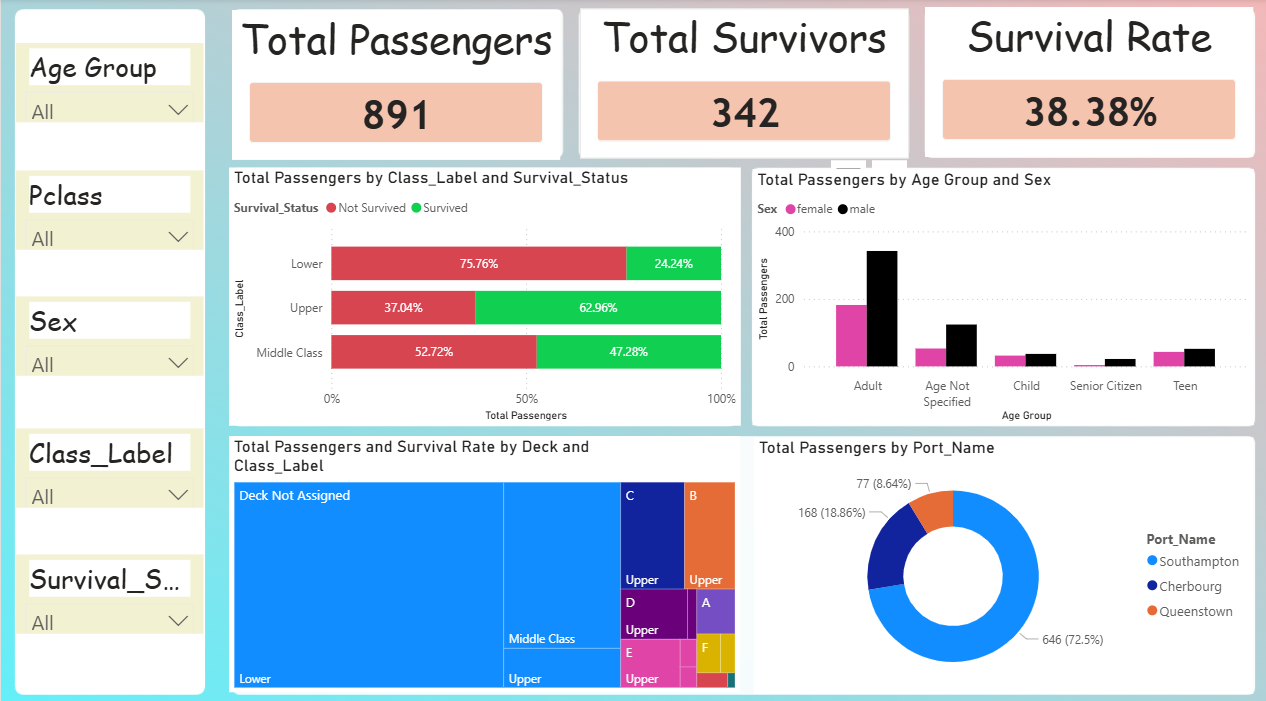

What the dashboard file says about the page in this screenshot:
{"tool":"powerbi","page":{"name":"Page 1","canvas":[1280,720],"ordinal":0},"visuals":[{"type":"cardVisual","title":"Total Passengers","fields":{"Data":["_Measures.Total Passengers"]},"box":[233.2,12.1,331.6,151.4],"z":0},{"type":"cardVisual","title":"Total Survivors","fields":{"Data":["_Measures.Total Survivors"]},"box":[584.5,10.6,331.6,151.4],"z":1000},{"type":"cardVisual","title":"Survival Rate","fields":{"Data":["_Measures.Survival Rate"]},"box":[932.8,9.1,331.6,151.4],"z":2000},{"type":"slicer","fields":{"Values":["Fact_Titanic_Passengers.Age Group"]},"box":[15.1,45.4,189.3,80.3],"z":3000},{"type":"hundredPercentStackedBarChart","fields":{"Category":["Dim_Pessanger_Class.Class_Label"],"Series":["Fact_Titanic_Passengers.Survival_Status"],"Y":["_Measures.Total Passengers"]},"box":[230.2,171.1,516.3,260.4],"z":4000},{"type":"clusteredColumnChart","fields":{"Category":["Fact_Titanic_Passengers.Age Group"],"Y":["_Measures.Total Passengers"],"Series":["Fact_Titanic_Passengers.Sex"]},"box":[758.6,172.6,505.7,258.9],"z":5000},{"type":"treemap","fields":{"Group":["Fact_Titanic_Passengers.Deck"],"Values":["_Measures.Total Passengers"],"Details":["Fact_Titanic_Passengers.Class_Label"]},"box":[230.6,442.2,515.9,258.9],"z":6000},{"type":"donutChart","fields":{"Category":["Dim_Port_Table.Port_Name"],"Y":["_Measures.Total Passengers"]},"box":[760.1,443.7,504.2,258.9],"z":7000},{"type":"slicer","fields":{"Values":["Fact_Titanic_Passengers.Pclass"]},"box":[15.1,174.1,189.3,80.3],"z":8000},{"type":"slicer","fields":{"Values":["Fact_Titanic_Passengers.Sex"]},"box":[15.1,301.3,189.3,80.3],"z":9000},{"type":"slicer","fields":{"Values":["Fact_Titanic_Passengers.Class_Label"]},"box":[15.1,434.6,189.3,80.3],"z":10000},{"type":"slicer","fields":{"Values":["Fact_Titanic_Passengers.Survival_Status"]},"box":[15.1,561.8,189.3,80.3],"z":11000}]}

Visuals, with their boxes in screenshot pixels (x1, y1, x2, y2), scaled from the page's 1280x720 canvas onto the 1266x701 screenshot:
"Total Passengers" cardVisual: rect(231, 12, 559, 159)
"Total Survivors" cardVisual: rect(578, 10, 906, 158)
"Survival Rate" cardVisual: rect(923, 9, 1251, 156)
slicer - Fact_Titanic_Passengers.Age Group: rect(15, 44, 202, 122)
hundredPercentStackedBarChart - Dim_Pessanger_Class.Class_Label x Fact_Titanic_Passengers.Survival_Status: rect(228, 167, 738, 420)
clusteredColumnChart - Fact_Titanic_Passengers.Age Group x _Measures.Total Passengers: rect(750, 168, 1250, 420)
treemap - Fact_Titanic_Passengers.Deck x _Measures.Total Passengers: rect(228, 431, 738, 683)
donutChart - Dim_Port_Table.Port_Name x _Measures.Total Passengers: rect(752, 432, 1250, 684)
slicer - Fact_Titanic_Passengers.Pclass: rect(15, 170, 202, 248)
slicer - Fact_Titanic_Passengers.Sex: rect(15, 293, 202, 372)
slicer - Fact_Titanic_Passengers.Class_Label: rect(15, 423, 202, 501)
slicer - Fact_Titanic_Passengers.Survival_Status: rect(15, 547, 202, 625)
